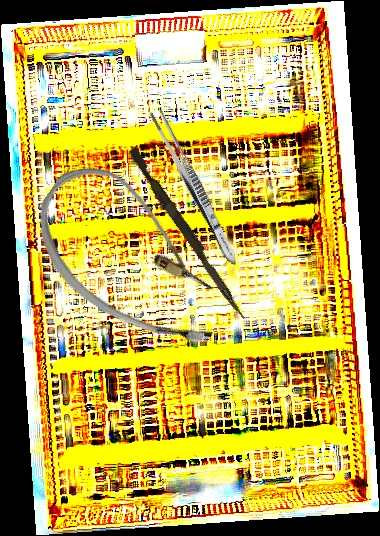Cannula: (10, 147, 258, 370)
Dressing Forceps: (145, 105, 244, 269)
Pusher: (124, 146, 253, 322)
